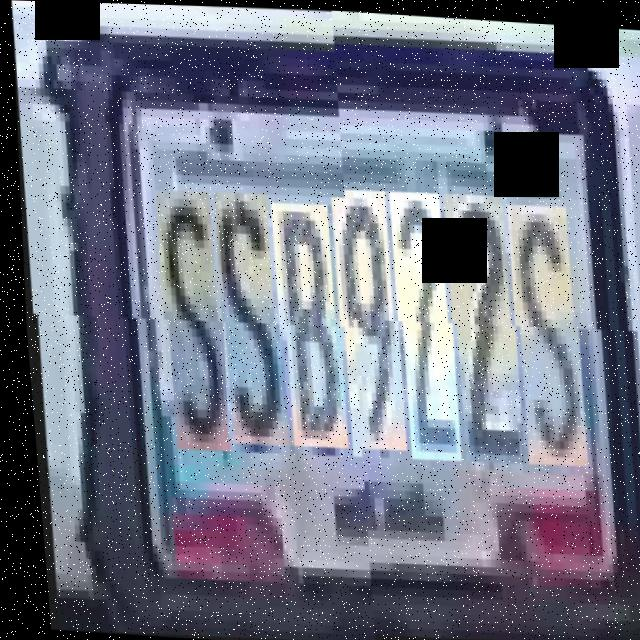2: (435, 200, 524, 472), (381, 198, 461, 469)
9: (322, 195, 406, 459)
B: (264, 201, 346, 448)
S: (498, 210, 588, 474), (145, 188, 231, 451), (205, 190, 288, 446)
